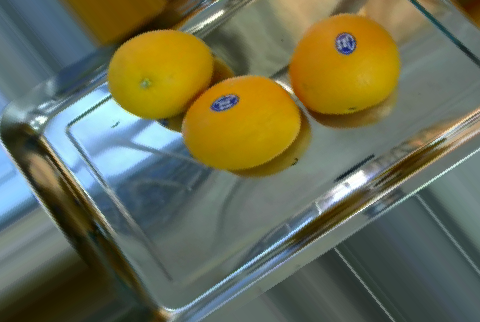Orange: (180, 74, 300, 171), (287, 11, 400, 113), (107, 28, 214, 119)
